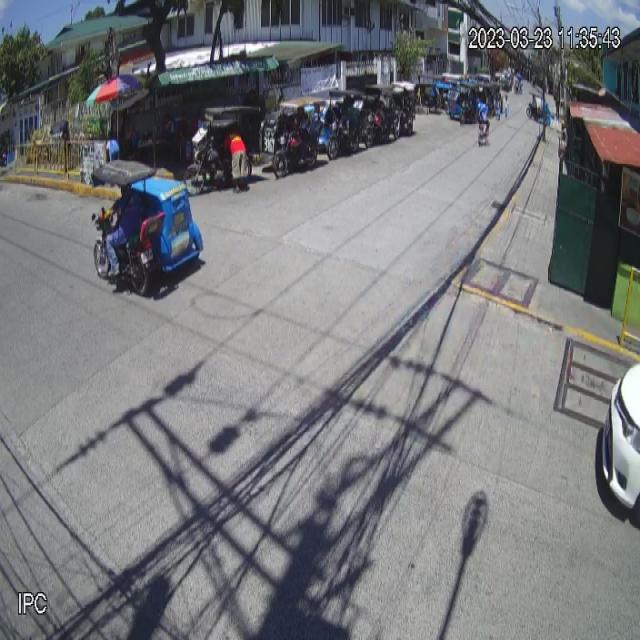Tricycle: (89, 157, 205, 297)
